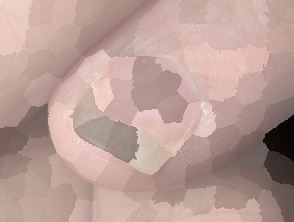Nail_psoriasis: (49, 61, 190, 203)
